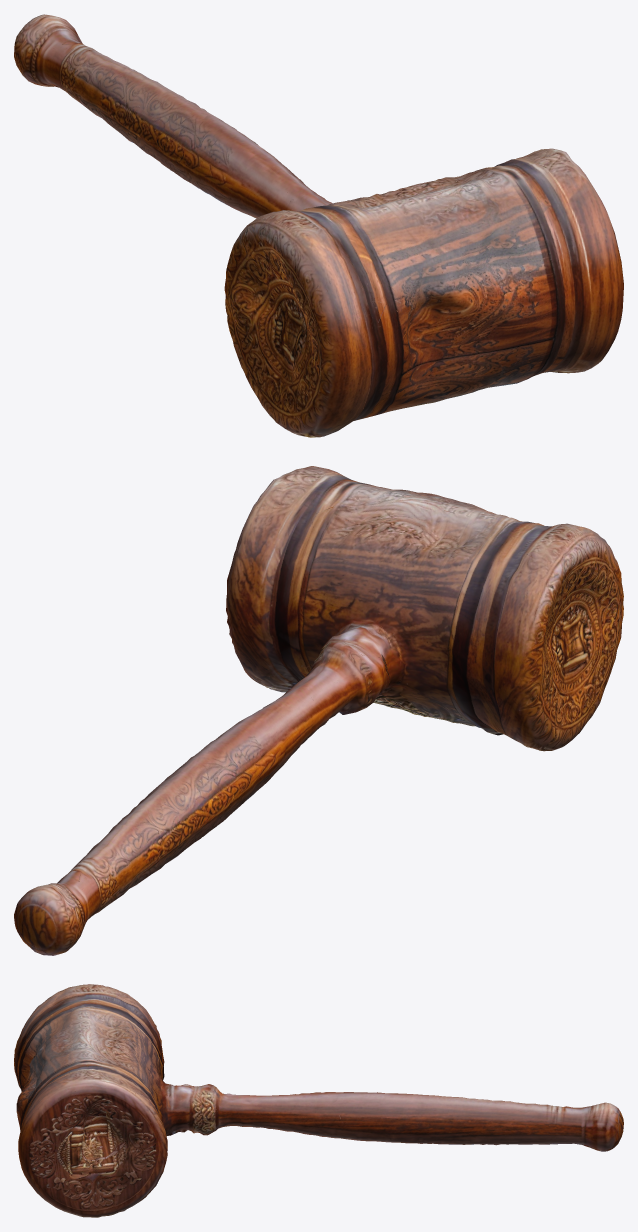
The model's file is ae777bc6-3fcb-41fc-b3d5-0fc0b169fe27.glb.
3 views of the same model, one above another, from view 1: azimuth 30°, elevation 25°; view 2: azimuth 150°, elevation 25°; view 3: azimuth 270°, elevation 25° (orthographic). The views are drawn at different scales.
Parts seen in each view (by area): view 1: Mesh_0.001; view 2: Mesh_0.001; view 3: Mesh_0.001.
Part boxes in pixels (x1,y1,x2,y2): Mesh_0.001: [14, 14, 623, 437]; Mesh_0.001: [14, 466, 623, 955]; Mesh_0.001: [14, 984, 623, 1217].
Size of the model in its own units: 0.4794 by 0.3108 by 1.2.
1 material, 1 textured.
